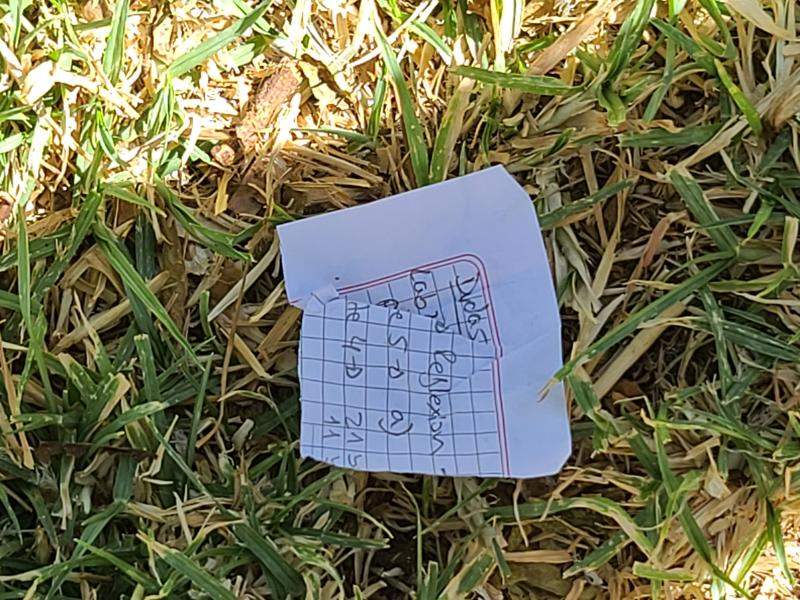papel: (276, 165, 573, 481)
